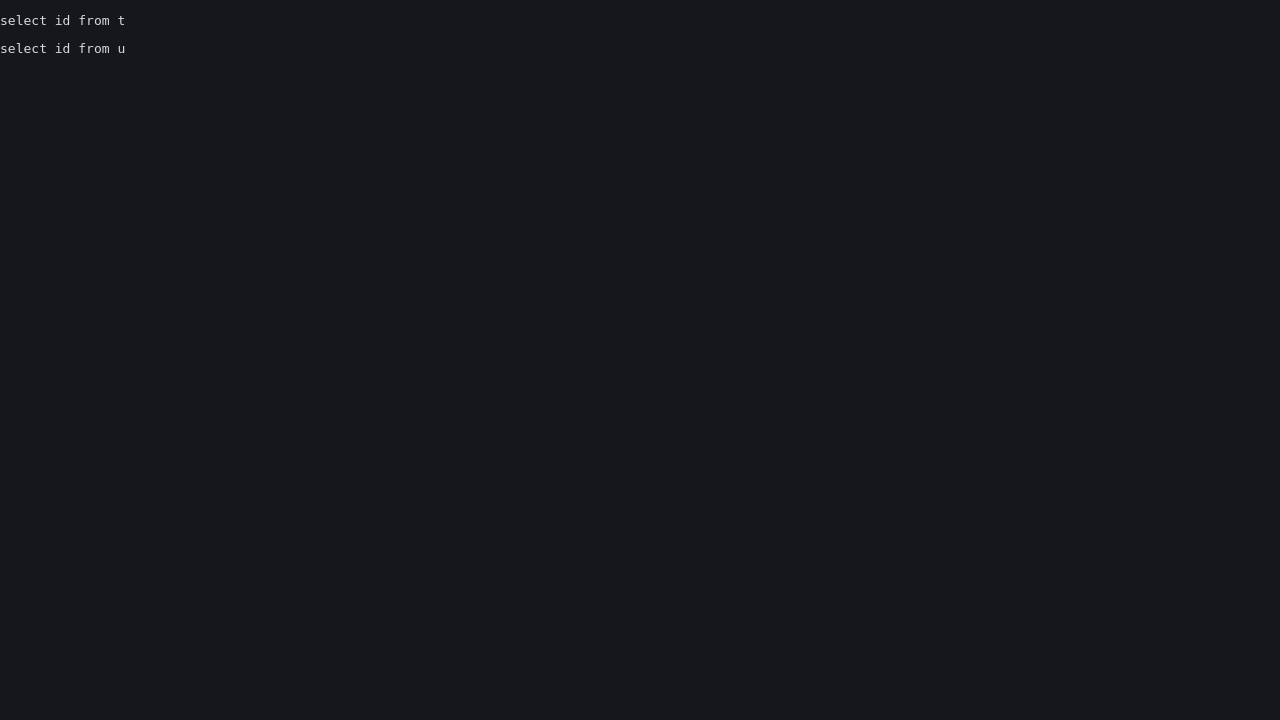
Scenario: useFindReplace wired to the dialog › closes on the dialog's close button
Press f
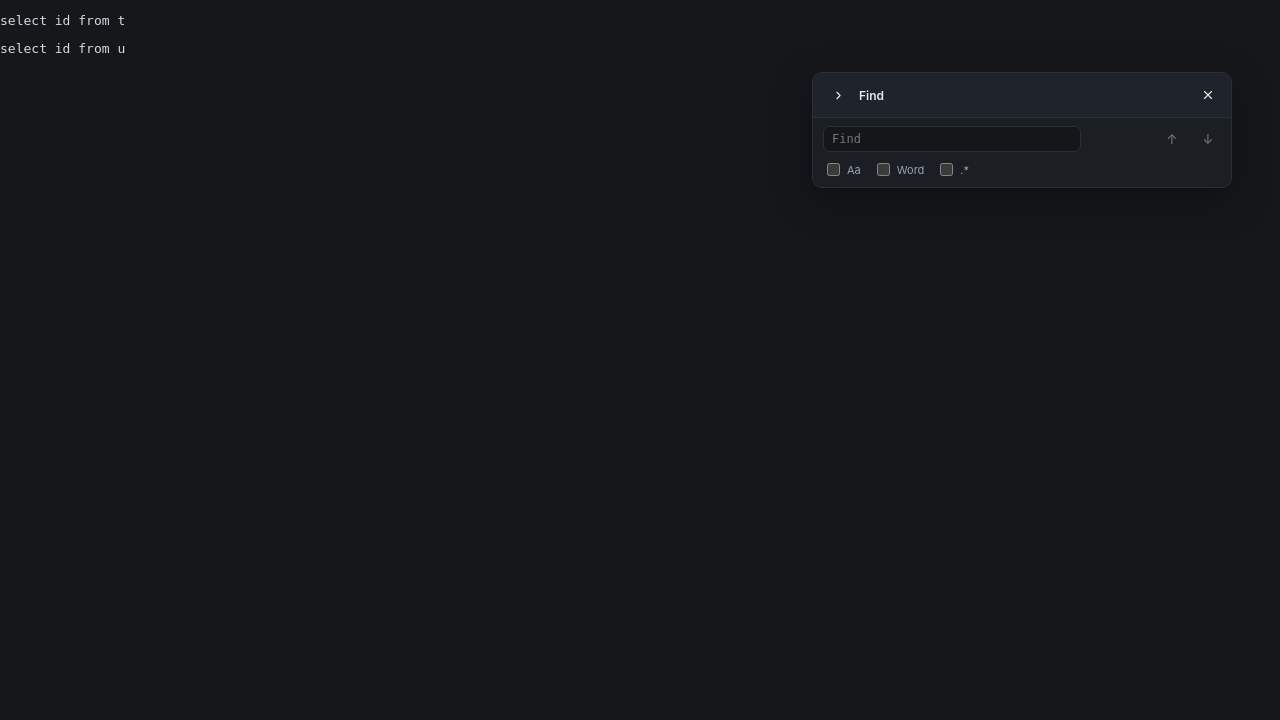
Click the button with test id "find-replace-close". click: (1208, 95)
box: [1193,80,1223,110]
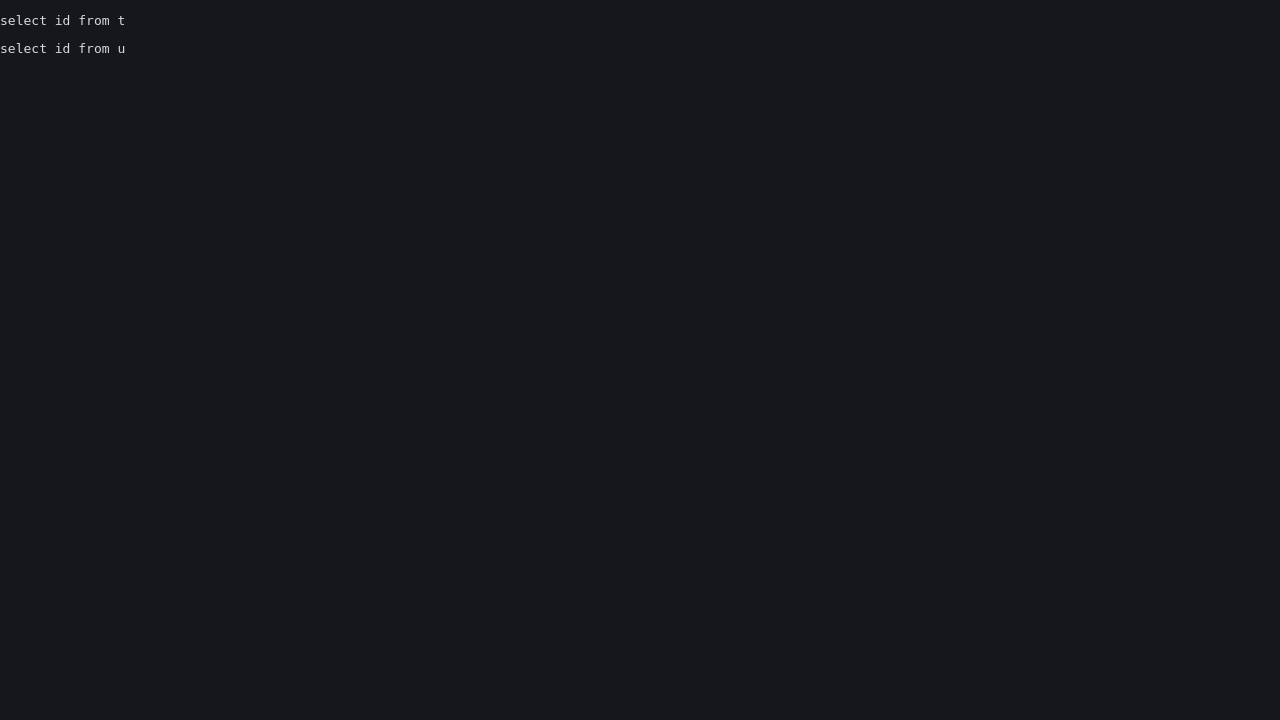
expect the dialog with test id "find-replace" is gone: met
